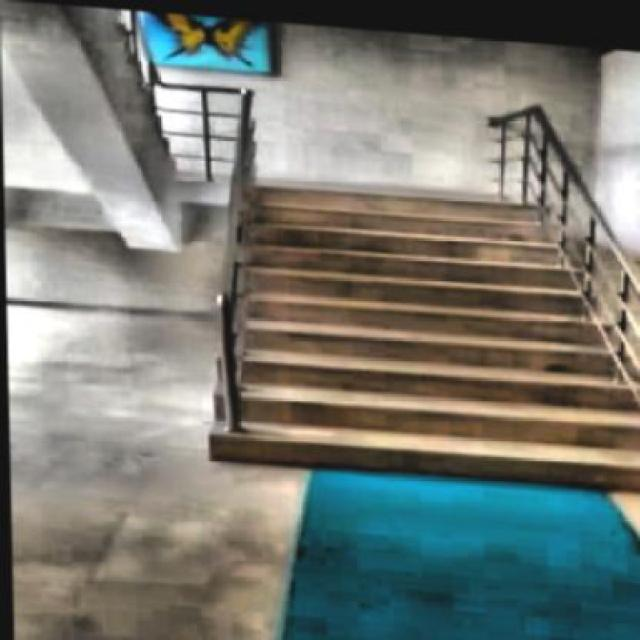stair: (191, 158, 638, 488)
